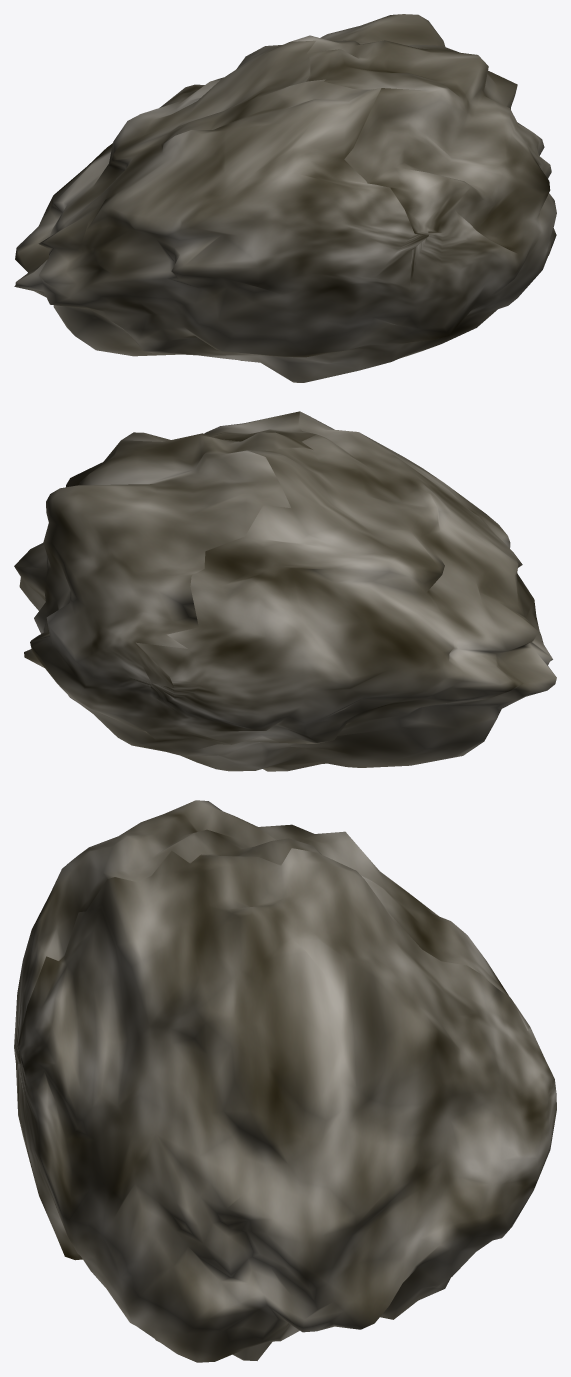
File: Asteroid1.fbx
3 renders of one model, top to bottom at view 1: azimuth 30°, elevation 25°; view 2: azimuth 150°, elevation 25°; view 3: azimuth 270°, elevation 25°, orthographic. The views are drawn at different scales.
Visible parts, largest first — view 1: Sphere01; view 2: Sphere01; view 3: Sphere01.
Boxes of the visible parts, x1,y1,x2,y2 form: Sphere01: (14,14,556,382); Sphere01: (14,411,556,771); Sphere01: (14,800,556,1362).
Size of the model in its own units: 39.03 by 23.05 by 24.7.
1 material, 1 textured.
